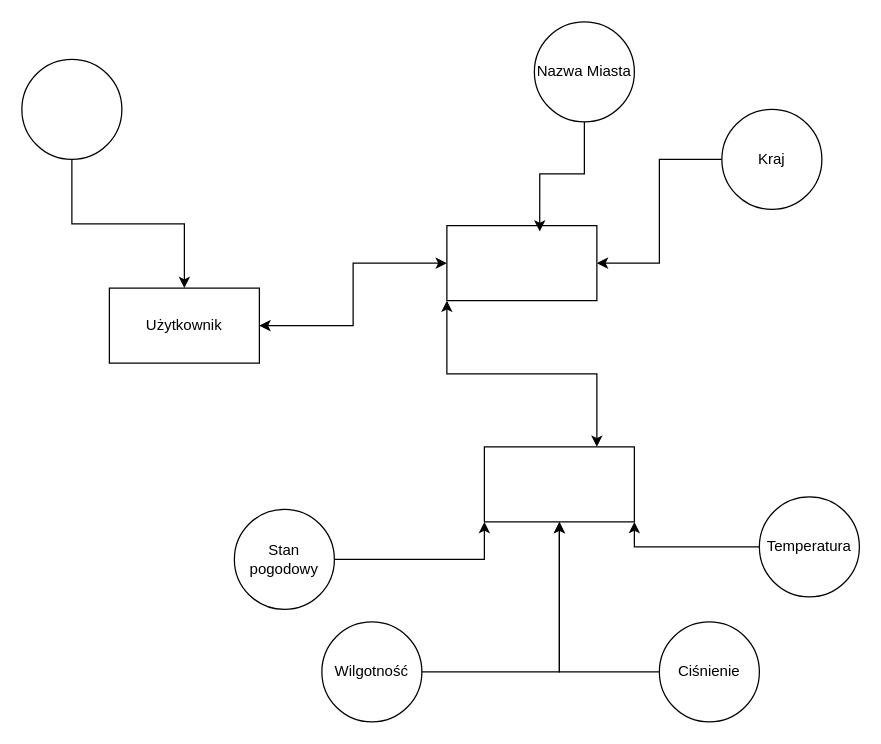
Some shapes in this 881 by 744 pixel diagram are drawn without their labels. The shapes that lost their labels are listed below. From the top down, each one's centre as x and y in pixels, then its label:
the point at 71,108: Nazwa użytkownika
the point at 521,262: Lokalizacja
the point at 558,484: Dane pogodowe
